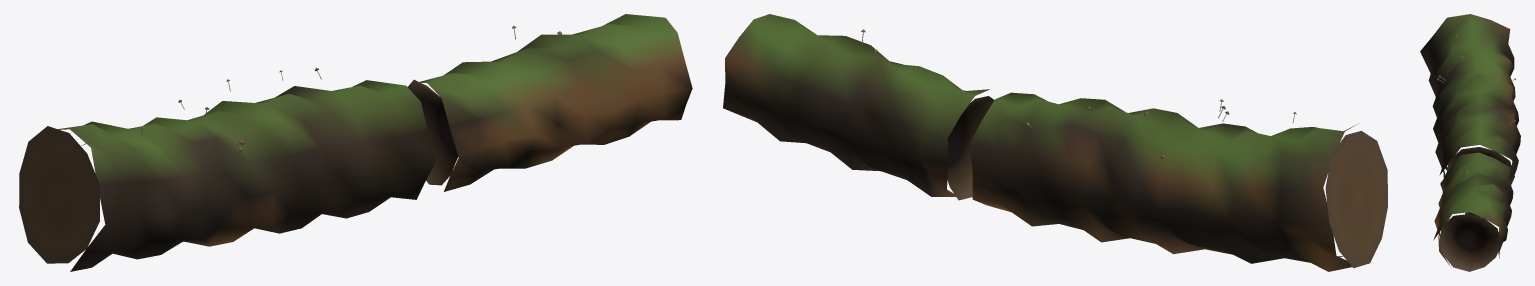
Rendered from log-rotten-a.lod0.glb.
3 renders of one model, left to right at view 1: azimuth 30°, elevation 25°; view 2: azimuth 150°, elevation 25°; view 3: azimuth 270°, elevation 25°, orthographic. The views are drawn at different scales.
Bounding box in the file's own units: 3.24 × 0.774 × 0.738.
